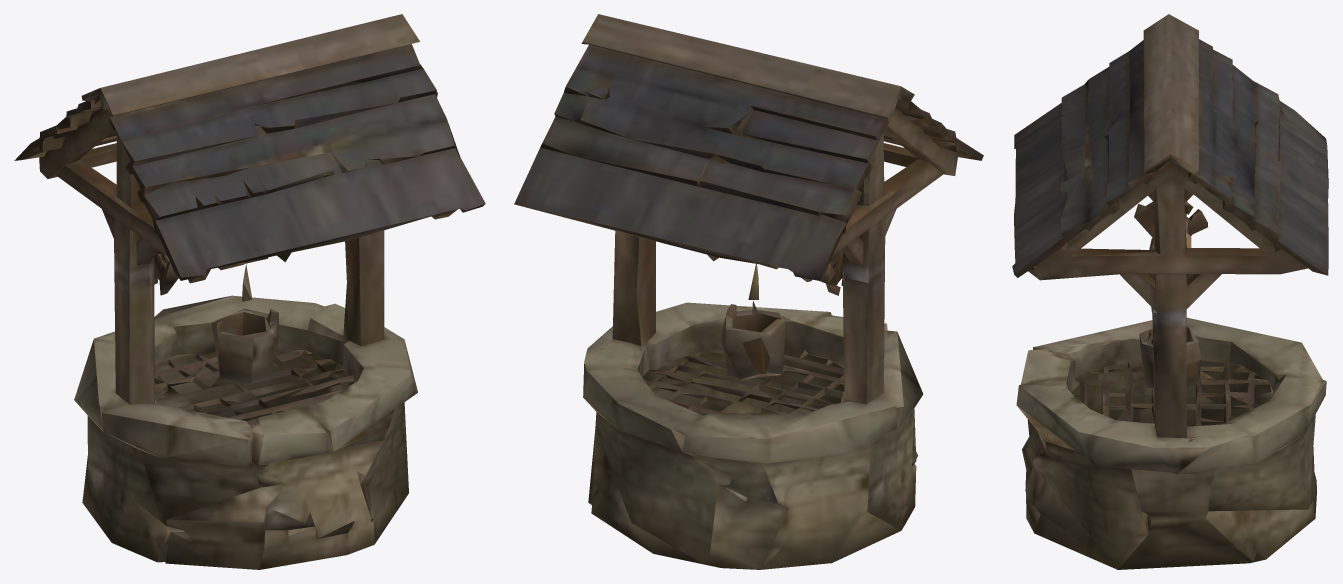
Rendered from well.glb.
The picture shows the model from 3 angles, left to right: view 1: azimuth 30°, elevation 25°; view 2: azimuth 150°, elevation 25°; view 3: azimuth 270°, elevation 25°; orthographic projection. The views are drawn at different scales.
Visible parts, largest first — view 1: geometry_0; view 2: geometry_0; view 3: geometry_0.
Boxes of the visible parts, x1,y1,x2,y2 form: geometry_0: (14, 14, 485, 569); geometry_0: (514, 14, 983, 569); geometry_0: (1012, 14, 1328, 569).
Size of the model in its own units: 1.29 by 1.8 by 1.21.
1 material, 1 textured.
